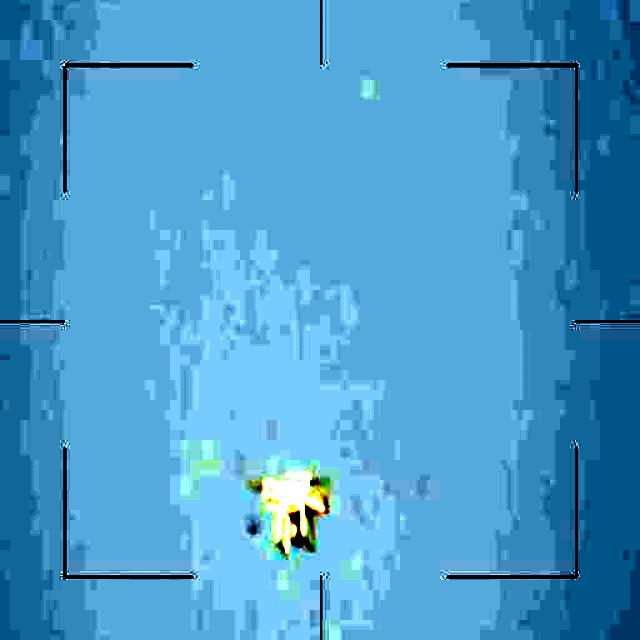bird: (248, 469, 335, 560)
